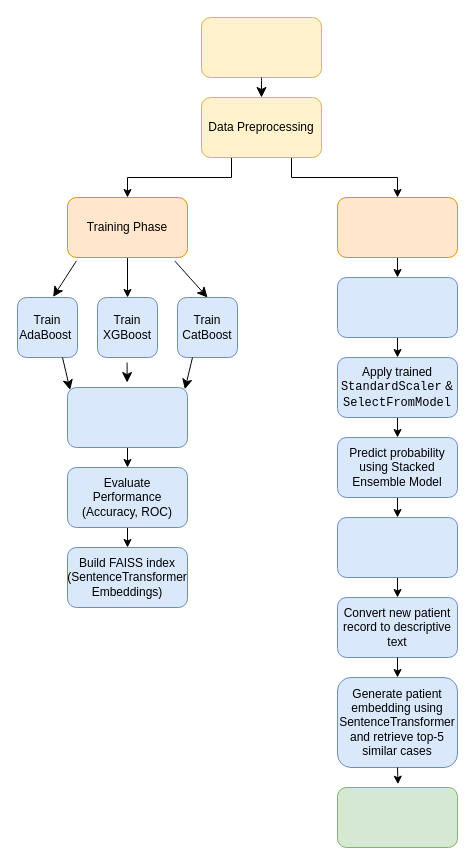
The diagram is 475 pixels wide and 865 high, and some of its shapes have lost their labels. Each missing label, with the centre of its shape:
Ensemble Stacking: the point at 127,417
Generate LLM Explanation & Care Plan: the point at 397,817
If probability > 0.5 → Diabetic else Non-Diabetic: the point at 397,547
New patient data: the point at 397,307
Raw Patient Data: the point at 261,47
Testing Phase: the point at 397,227
